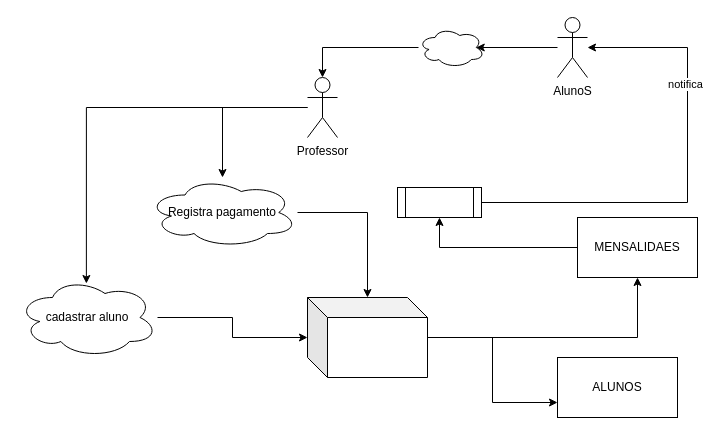
Some shapes in this 720 by 435 pixel diagram are drawn without their labels. The shapes that lost their labels are listed below. From the top down, each one's centre as x and y in pixels, then its label:
At (451,47): "PAGA".
At (439,202): "ATRASO".
At (367,337): "CTControl".
